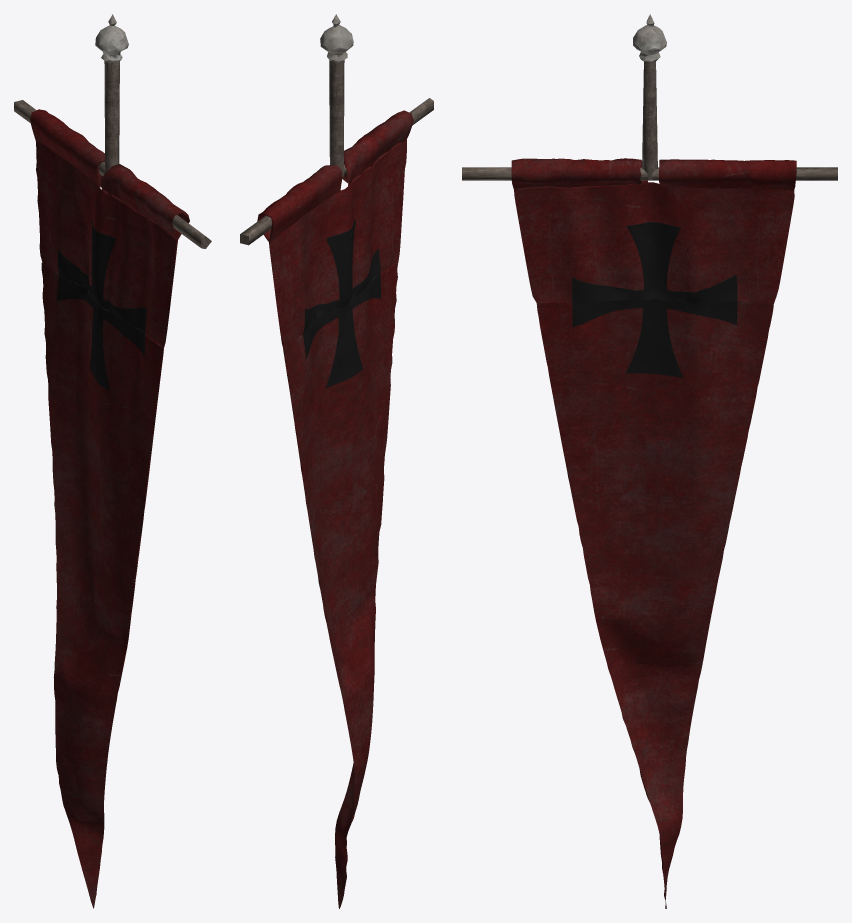
The model's file is Flag_B_Short_001.fbx.
The picture shows the model from 3 angles, left to right: view 1: azimuth 30°, elevation 25°; view 2: azimuth 150°, elevation 25°; view 3: azimuth 270°, elevation 25°; orthographic projection.
Visible parts, largest first — view 1: Flag_B_Short_001; view 2: Flag_B_Short_001; view 3: Flag_B_Short_001.
Part boxes in pixels (bbox=[...]): Flag_B_Short_001: bbox=[14, 14, 211, 908]; Flag_B_Short_001: bbox=[240, 14, 433, 908]; Flag_B_Short_001: bbox=[462, 14, 837, 908].
Size of the model in its own units: 23.54 by 385 by 146.
1 material, 1 textured.
